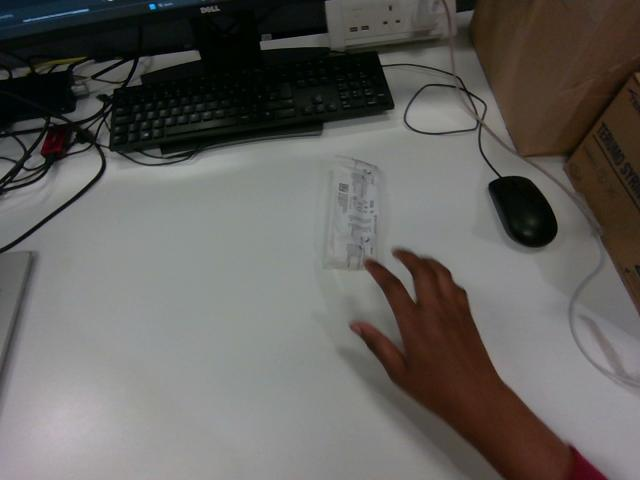syringe: (323, 157, 379, 269)
